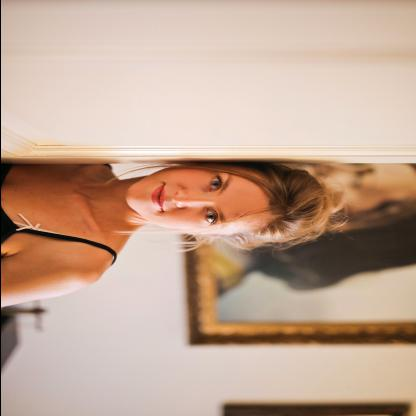Eye: (204, 175, 221, 193), (202, 206, 217, 225)
Mouth: (148, 181, 168, 213)
Nose: (172, 190, 206, 208)
